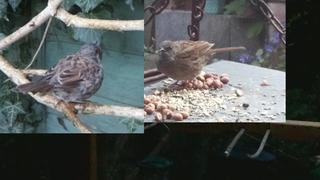dunnock: (10, 40, 104, 114), (156, 40, 246, 92)
